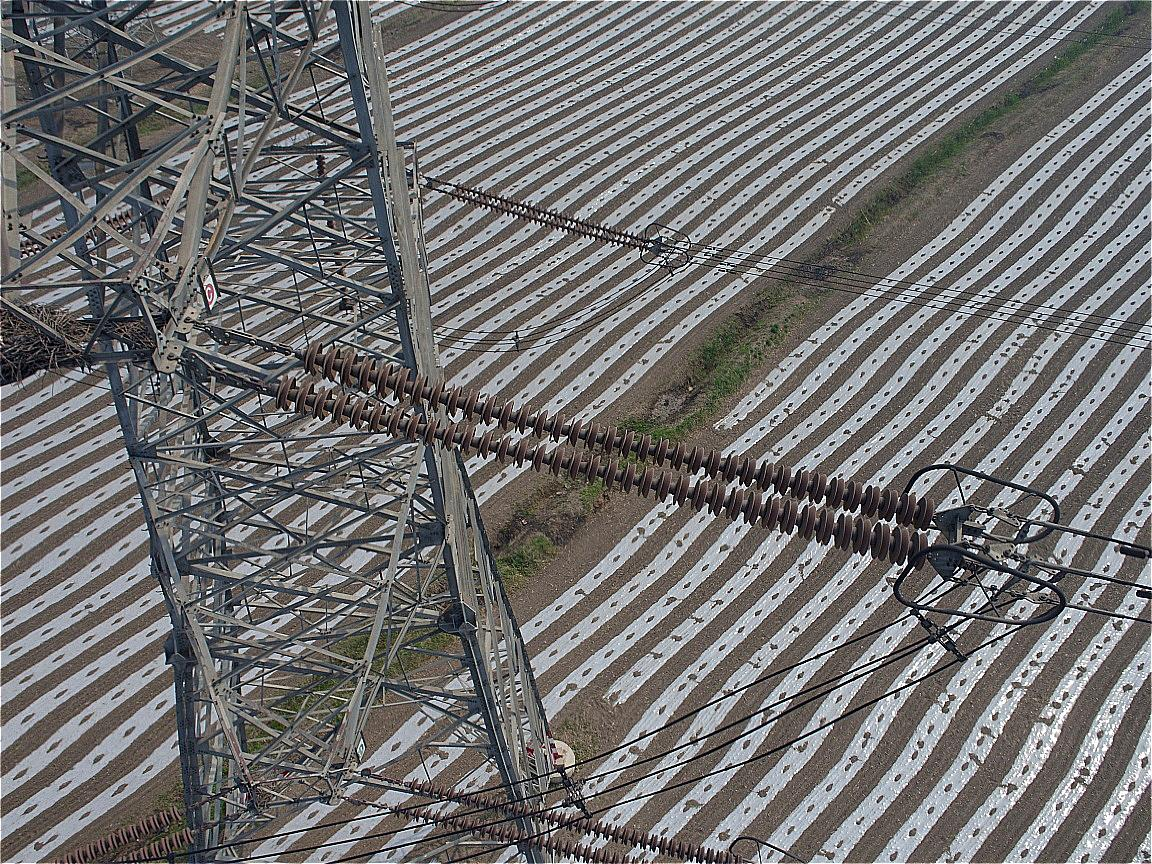insultor2: (235, 325, 958, 582)
